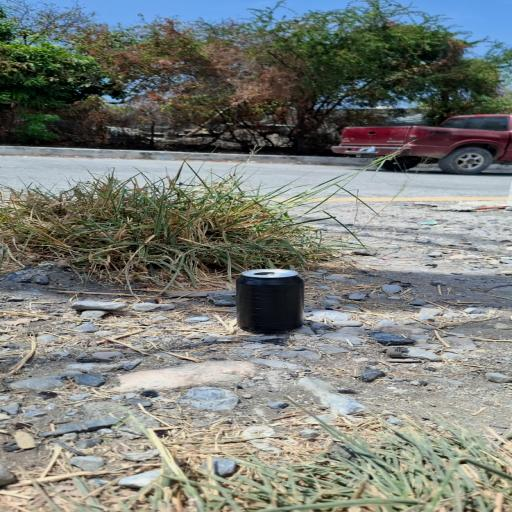LATA: (209, 263, 329, 342)
